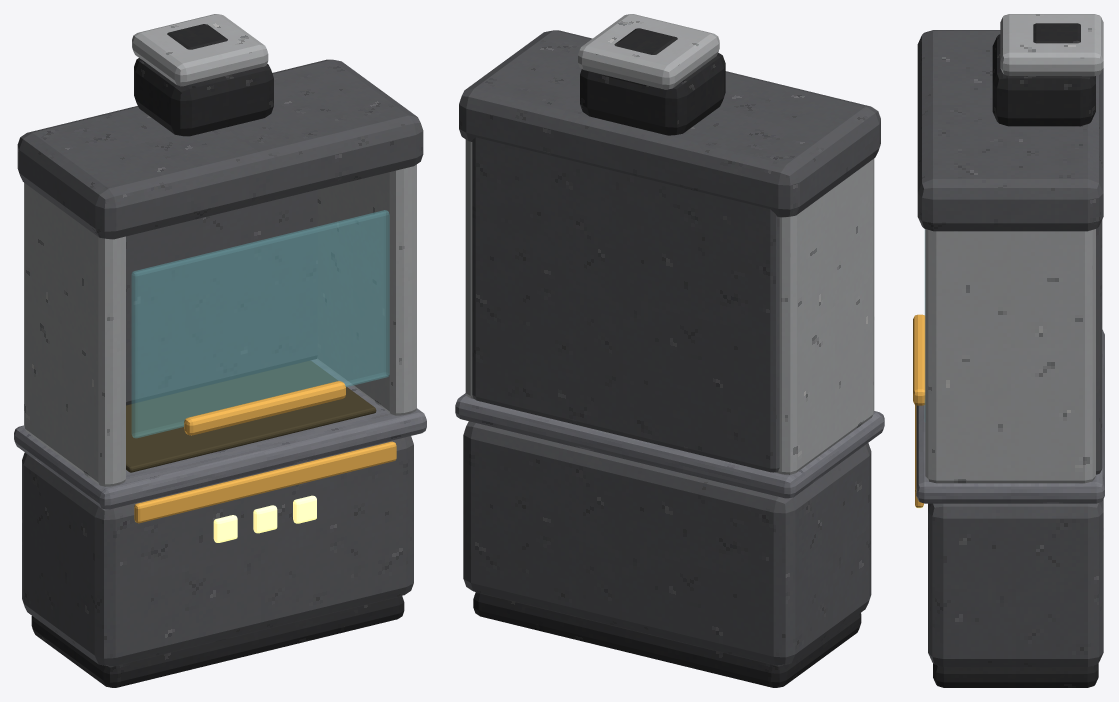
File: decor_chem_fume_hood.glb
3 renders of one model, left to right at view 1: azimuth 30°, elevation 25°; view 2: azimuth 150°, elevation 25°; view 3: azimuth 270°, elevation 25°, orthographic. The views are drawn at different scales.
Visible parts, largest first — view 1: DEC_ChemFumeHood__Base_Cabinet, DEC_ChemFumeHood__Sash_Glass, DEC_ChemFumeHood__Canopy, DEC_ChemFumeHood__Rear_Panel, DEC_ChemFumeHood__Frame_Post_1, DEC_ChemFumeHood__Frame_Post_2, DEC_ChemFumeHood__Work_Well, DEC_ChemFumeHood__Worktop, DEC_ChemFumeHood__Base_Plinth, DEC_ChemFumeHood__Extractor, DEC_ChemFumeHood__Exhaust_Cap, DEC_ChemFumeHood__Hazard_Band (+2 smaller); view 2: DEC_ChemFumeHood__Rear_Panel, DEC_ChemFumeHood__Base_Cabinet, DEC_ChemFumeHood__Canopy, DEC_ChemFumeHood__Frame_Post_1, DEC_ChemFumeHood__Worktop, DEC_ChemFumeHood__Base_Plinth, DEC_ChemFumeHood__Extractor, DEC_ChemFumeHood__Exhaust_Cap, DEC_ChemFumeHood__Frame_Post_2, DEC_ChemFumeHood__Exhaust_Riser; view 3: DEC_ChemFumeHood__Frame_Post_2, DEC_ChemFumeHood__Base_Cabinet, DEC_ChemFumeHood__Canopy, DEC_ChemFumeHood__Extractor, DEC_ChemFumeHood__Exhaust_Cap, DEC_ChemFumeHood__Worktop, DEC_ChemFumeHood__Base_Plinth, DEC_ChemFumeHood__Rear_Panel, DEC_ChemFumeHood__Sash_Handle, DEC_ChemFumeHood__Exhaust_Riser.
Boxes of the visible parts, box(x1,y1,x2,y2) form: DEC_ChemFumeHood__Base_Cabinet: box(22, 436, 413, 666); DEC_ChemFumeHood__Sash_Glass: box(131, 210, 389, 438); DEC_ChemFumeHood__Canopy: box(17, 59, 423, 239); DEC_ChemFumeHood__Rear_Panel: box(126, 189, 317, 405); DEC_ChemFumeHood__Frame_Post_1: box(24, 183, 125, 486); DEC_ChemFumeHood__Frame_Post_2: box(317, 164, 416, 415); DEC_ChemFumeHood__Work_Well: box(126, 360, 376, 472); DEC_ChemFumeHood__Worktop: box(14, 359, 426, 509); DEC_ChemFumeHood__Base_Plinth: box(31, 596, 404, 687); DEC_ChemFumeHood__Extractor: box(134, 58, 273, 136); DEC_ChemFumeHood__Exhaust_Cap: box(132, 14, 268, 86); DEC_ChemFumeHood__Hazard_Band: box(134, 441, 396, 523); DEC_ChemFumeHood__Rear_Panel: box(472, 137, 779, 472); DEC_ChemFumeHood__Base_Cabinet: box(463, 421, 871, 665); DEC_ChemFumeHood__Canopy: box(459, 30, 880, 217); DEC_ChemFumeHood__Frame_Post_1: box(775, 158, 874, 474); DEC_ChemFumeHood__Worktop: box(455, 393, 884, 498); DEC_ChemFumeHood__Base_Plinth: box(473, 592, 861, 687); DEC_ChemFumeHood__Extractor: box(580, 53, 725, 135); DEC_ChemFumeHood__Exhaust_Cap: box(578, 14, 719, 89); DEC_ChemFumeHood__Frame_Post_2: box(465, 139, 473, 398); DEC_ChemFumeHood__Exhaust_Riser: box(608, 28, 677, 86); DEC_ChemFumeHood__Frame_Post_2: box(925, 229, 1095, 483); DEC_ChemFumeHood__Base_Cabinet: box(928, 499, 1103, 666); DEC_ChemFumeHood__Canopy: box(917, 30, 1103, 231); DEC_ChemFumeHood__Extractor: box(992, 34, 1095, 126); DEC_ChemFumeHood__Exhaust_Cap: box(1000, 14, 1103, 76); DEC_ChemFumeHood__Worktop: box(916, 329, 1104, 503); DEC_ChemFumeHood__Base_Plinth: box(933, 663, 1098, 687); DEC_ChemFumeHood__Rear_Panel: box(1096, 220, 1102, 474); DEC_ChemFumeHood__Sash_Handle: box(913, 314, 925, 405); DEC_ChemFumeHood__Exhaust_Riser: box(1033, 23, 1080, 43).
Size of the model in its own units: 1.48 by 2.5 by 0.7425.
Materials: 8 (4 with a texture image).
